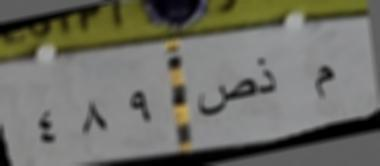4: (36, 105, 59, 149)
8: (78, 94, 110, 150)
9: (124, 86, 157, 136)
meem: (307, 64, 339, 106)
saad: (196, 78, 255, 122)
zaal: (255, 55, 280, 98)
